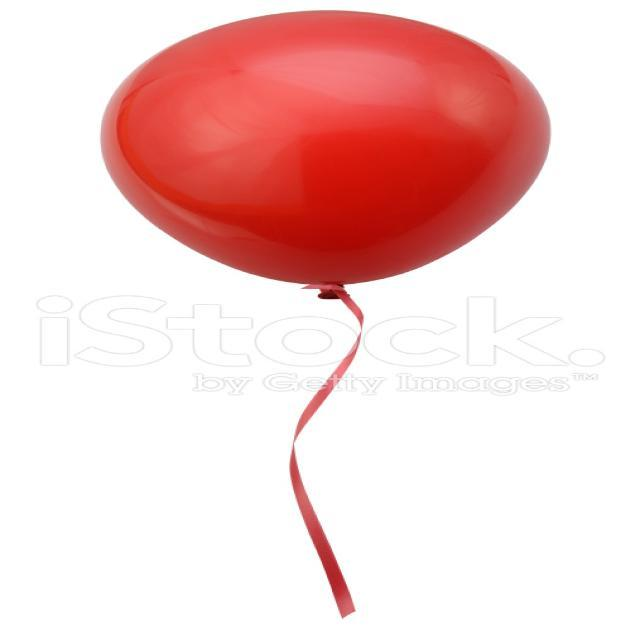red: (91, 0, 561, 305)
